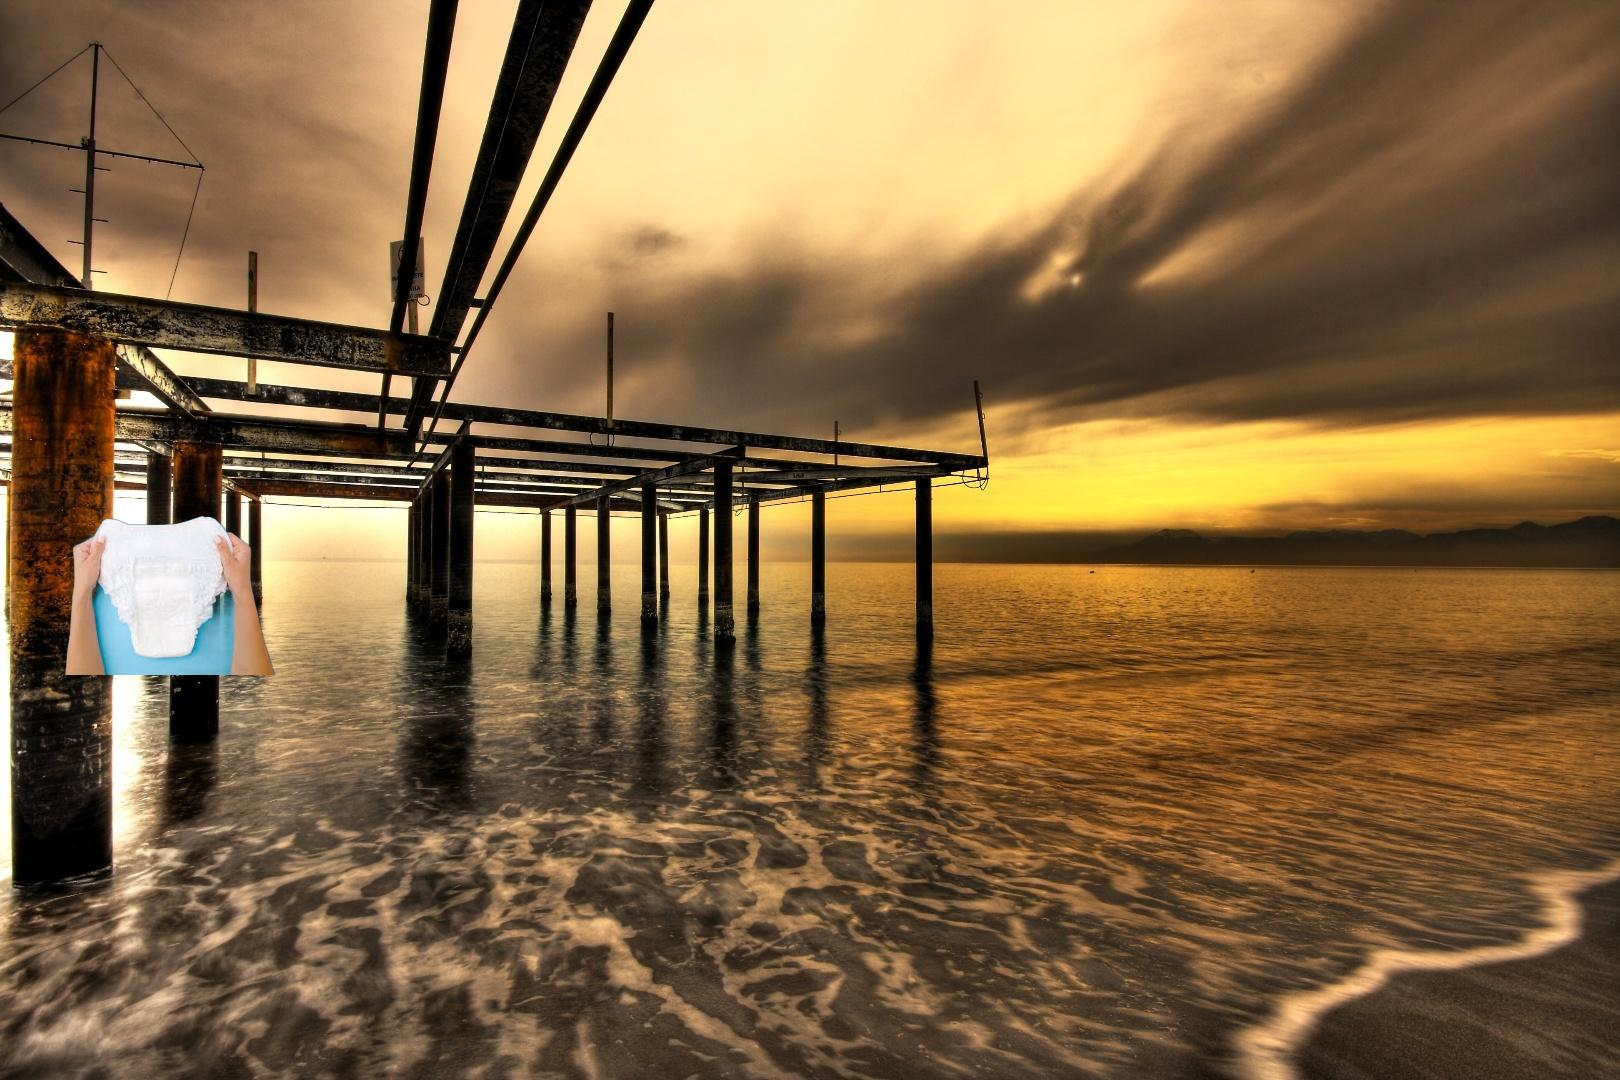trash: (63, 513, 297, 675)
